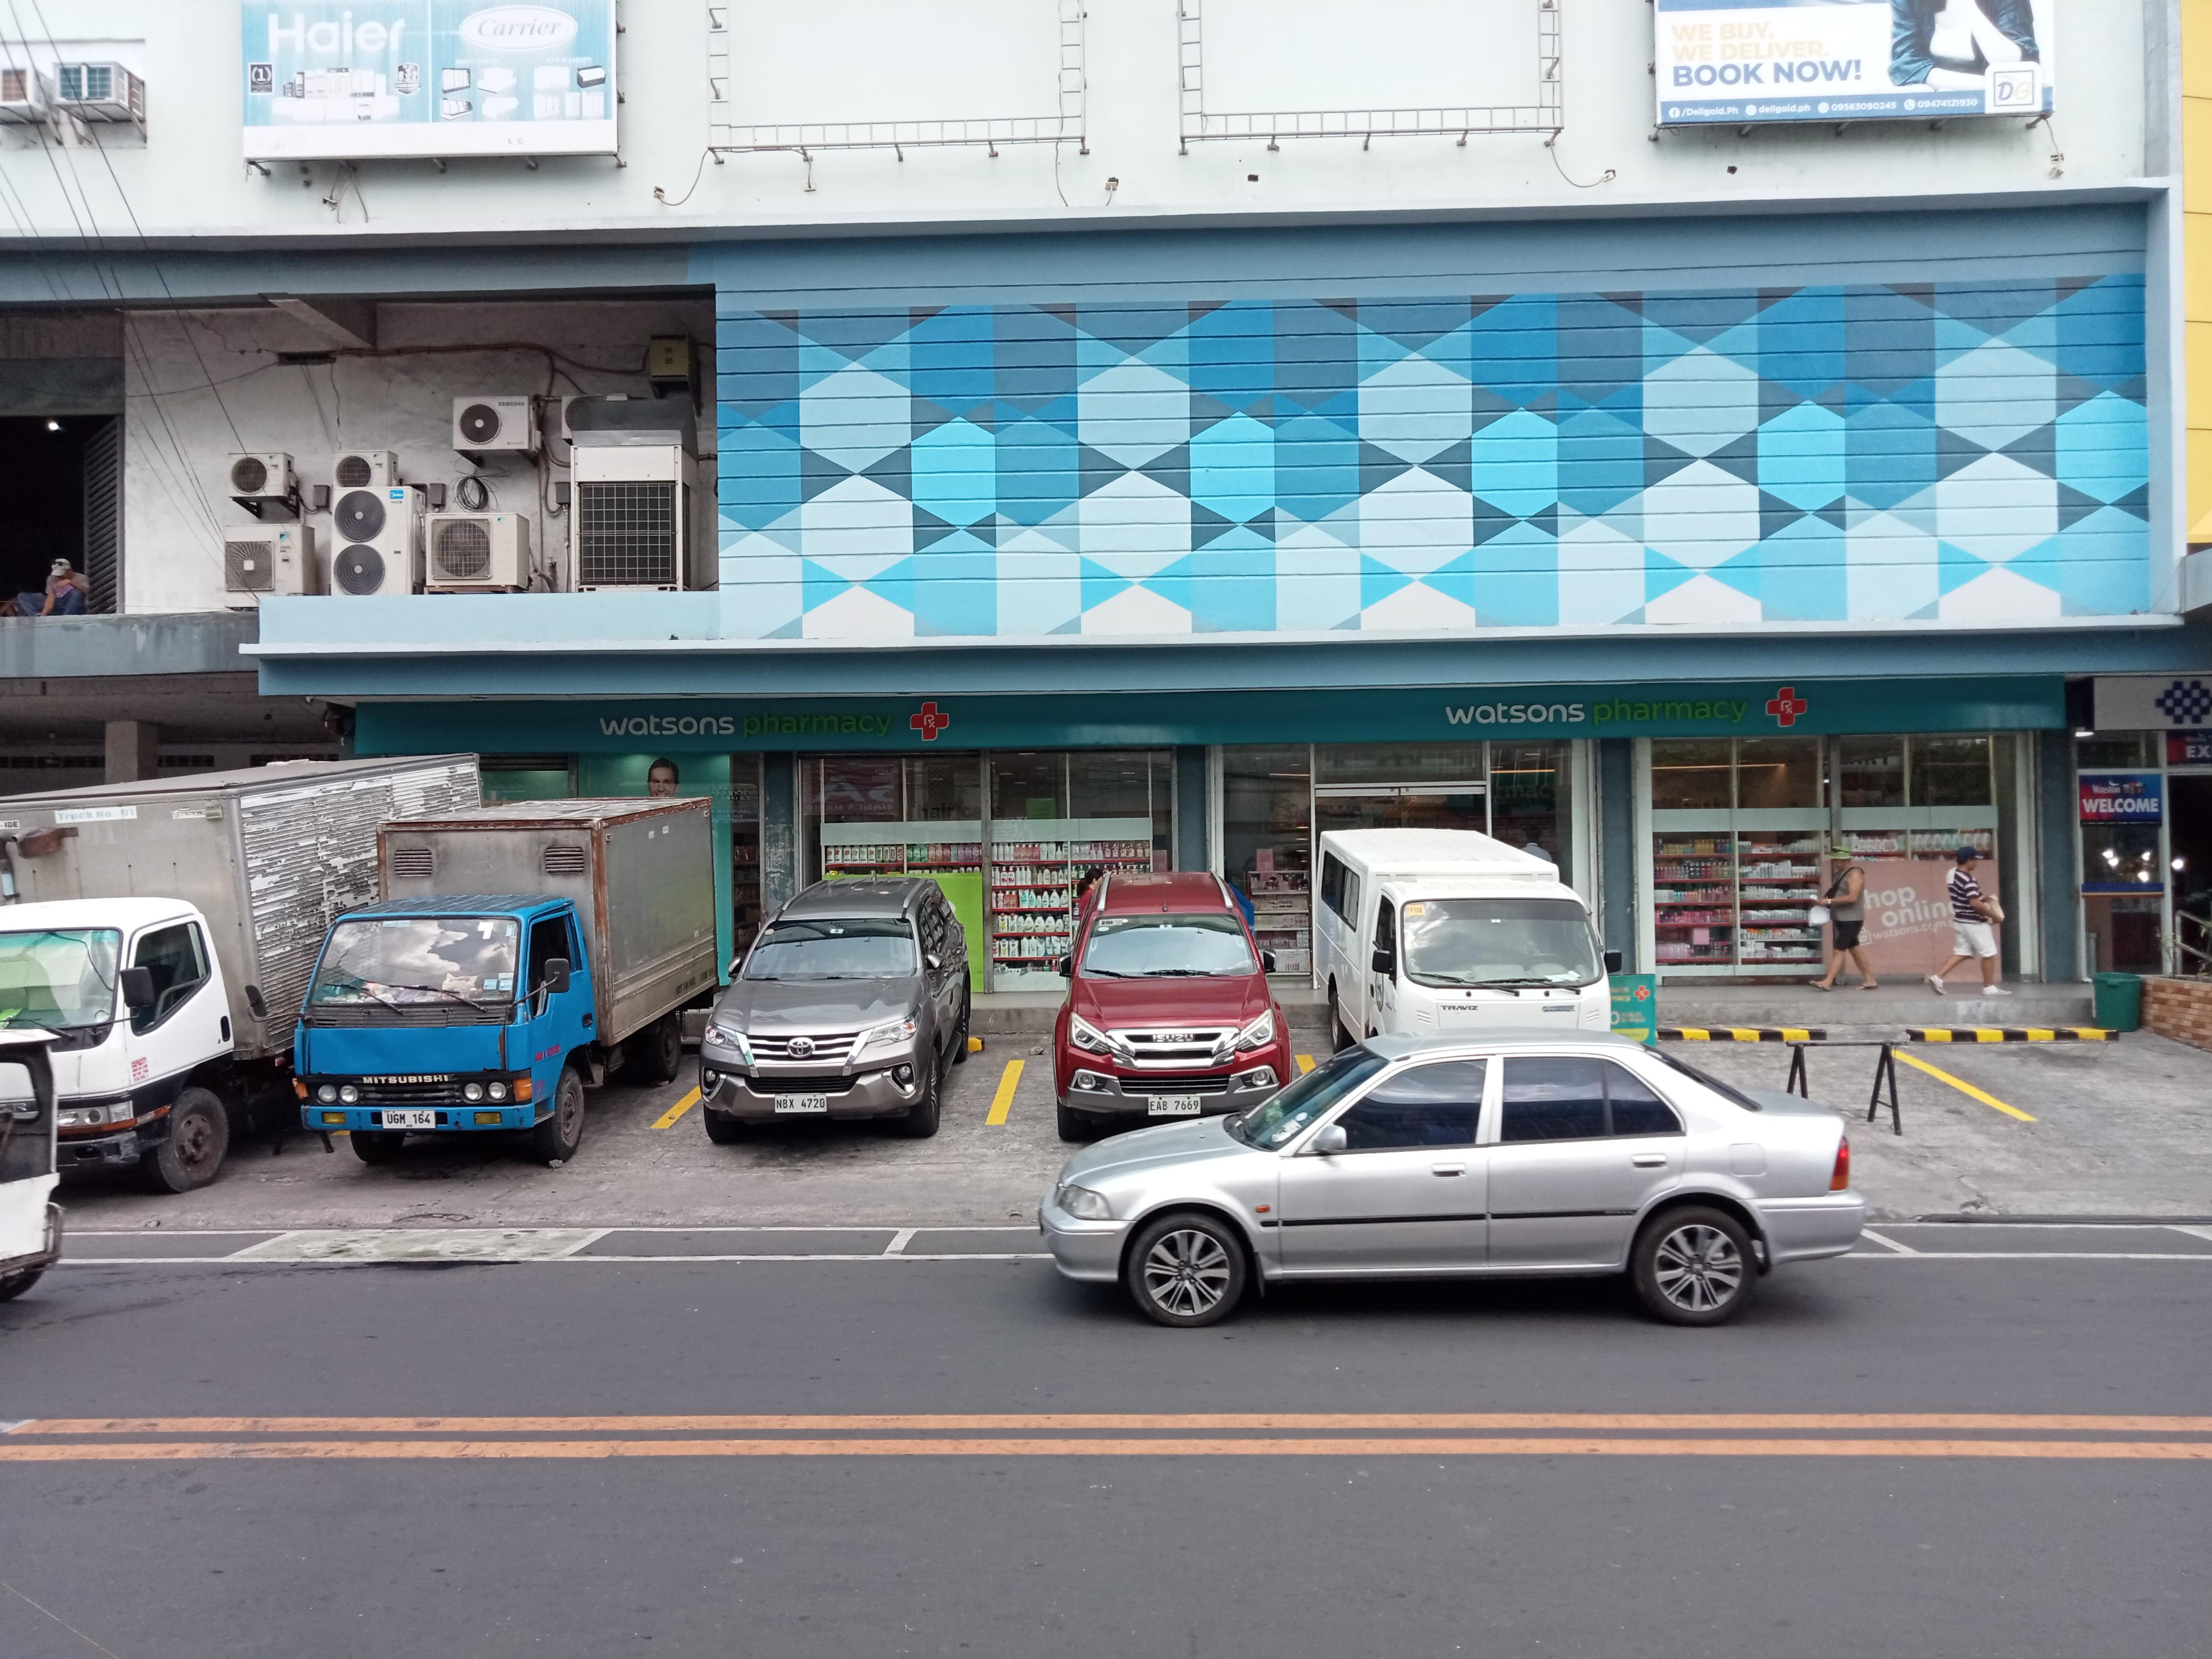occupied: (643, 1035, 1038, 1133), (977, 1028, 1348, 1131)
vacant: (1841, 1023, 2212, 1134), (535, 1225, 923, 1265)
